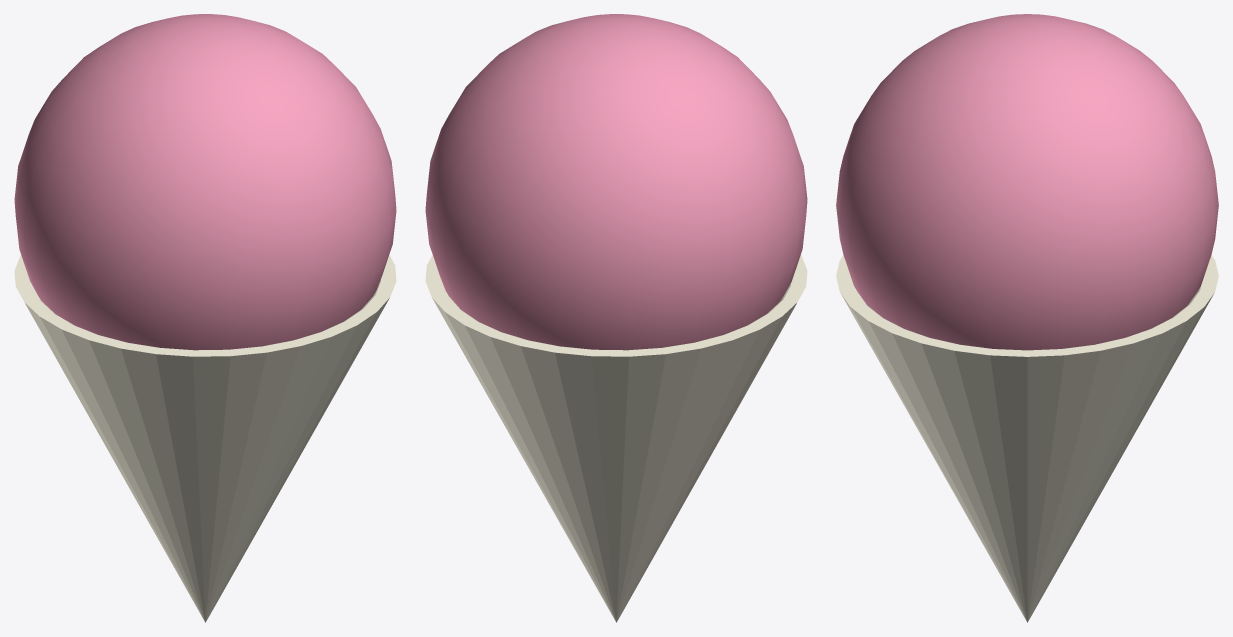
File: SberryIcecream - Copy.glb
The picture shows the model from 3 angles, left to right: view 1: azimuth 30°, elevation 25°; view 2: azimuth 150°, elevation 25°; view 3: azimuth 270°, elevation 25°; orthographic projection.
Visible parts, largest first — view 1: Sphere, IceCream Cone; view 2: Sphere, IceCream Cone; view 3: Sphere, IceCream Cone.
Part boxes in pixels (box(x1,y1,x2,y2)): Sphere: box(14, 14, 396, 350); IceCream Cone: box(14, 255, 396, 622); Sphere: box(425, 14, 807, 350); IceCream Cone: box(425, 255, 807, 622); Sphere: box(836, 14, 1218, 350); IceCream Cone: box(836, 255, 1218, 622).
Bounding box in the file's own units: 2 × 3.41 × 2.
